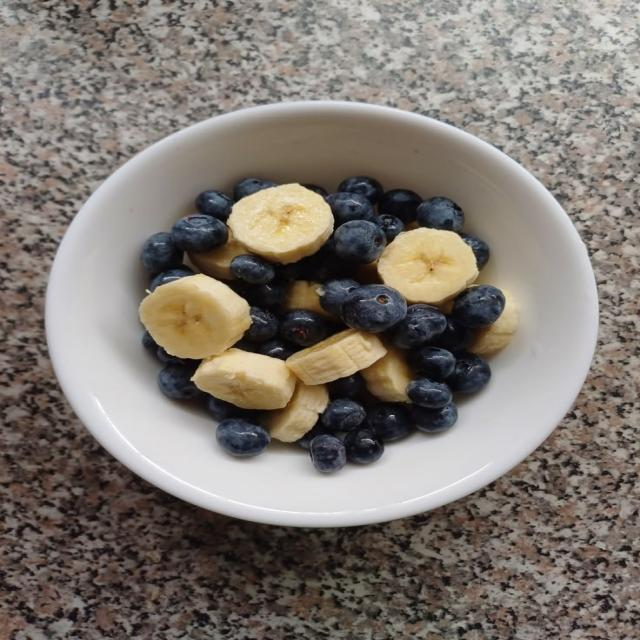banana slice: (140, 274, 250, 359), (227, 184, 333, 264), (377, 228, 477, 304), (191, 349, 297, 410), (285, 329, 386, 385), (263, 380, 328, 442), (468, 289, 519, 355), (362, 344, 412, 402), (190, 232, 248, 279), (281, 280, 332, 319)
blueberry: (341, 285, 406, 333), (389, 304, 446, 349), (296, 238, 353, 282), (452, 285, 505, 328), (334, 220, 386, 263), (172, 215, 228, 252), (216, 418, 270, 456), (447, 352, 491, 393), (367, 403, 413, 441), (141, 232, 183, 273), (280, 310, 326, 347), (417, 197, 464, 231), (320, 279, 360, 317), (326, 193, 373, 225), (158, 364, 202, 398), (432, 316, 474, 351), (344, 428, 384, 464), (321, 399, 366, 431), (413, 346, 455, 380), (379, 189, 422, 222), (310, 434, 346, 472), (230, 254, 275, 284), (412, 403, 458, 432), (407, 379, 452, 408), (206, 395, 256, 421), (337, 176, 383, 204), (244, 307, 279, 343), (195, 190, 233, 221), (150, 266, 194, 291), (460, 232, 489, 269), (245, 281, 286, 307), (296, 421, 329, 451), (234, 178, 277, 201), (372, 214, 404, 243), (328, 373, 364, 398), (156, 346, 198, 366), (258, 338, 296, 359), (278, 260, 306, 282), (233, 338, 258, 352), (142, 331, 158, 352), (302, 184, 327, 197)
